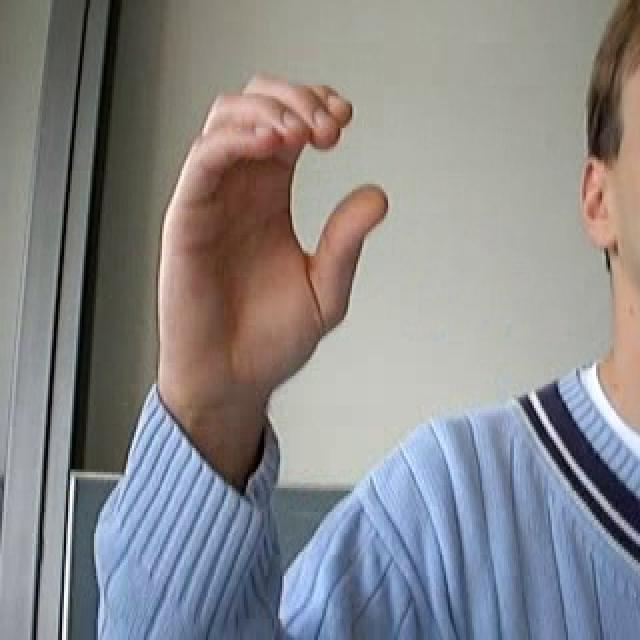C: (98, 49, 404, 458)
